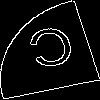C: (25, 24, 81, 79)
